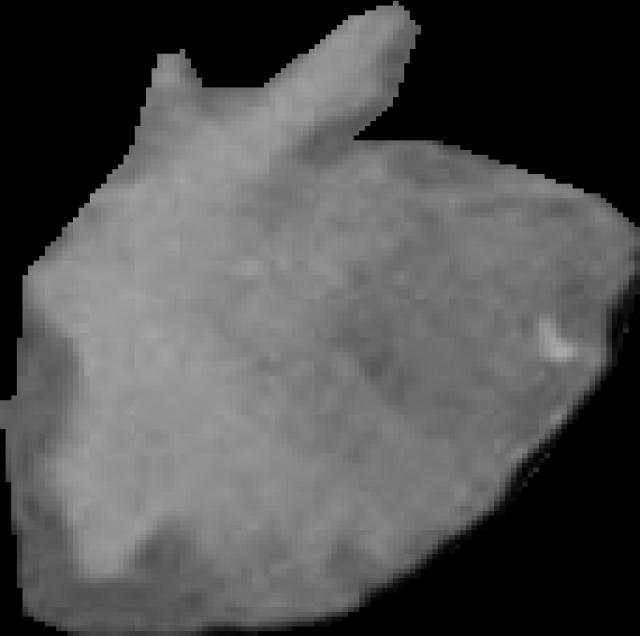tumor_moderate_chance: (0, 1, 640, 636)
